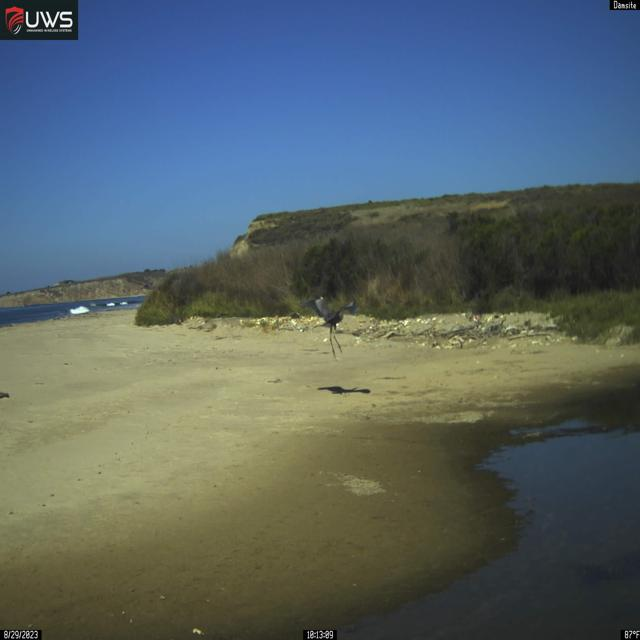bird: (301, 296, 359, 361)
